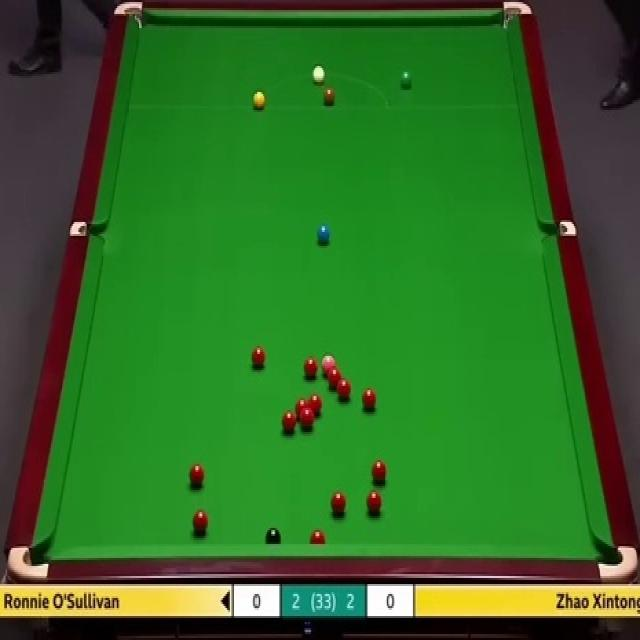black-ball: (265, 524, 281, 547)
blue-ball: (318, 225, 330, 244)
brown-ball: (323, 89, 335, 108)
green-ball: (398, 70, 414, 92)
pink-ball: (320, 352, 336, 374)
red-ball: (365, 488, 383, 516), (370, 458, 387, 485), (188, 462, 205, 487), (250, 344, 266, 370), (331, 488, 347, 514), (192, 508, 208, 533), (336, 379, 352, 404), (303, 355, 318, 379), (362, 387, 377, 411), (309, 392, 324, 416), (281, 410, 297, 432), (300, 405, 314, 429), (327, 368, 342, 386), (309, 529, 325, 544), (296, 397, 309, 415)
white-ball: (312, 63, 325, 85)
yellow-ball: (252, 88, 265, 110)
